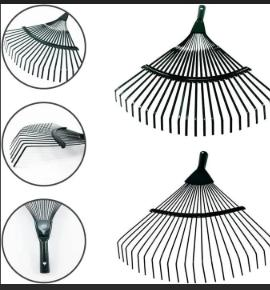RATEAU: (1, 2, 270, 290)
